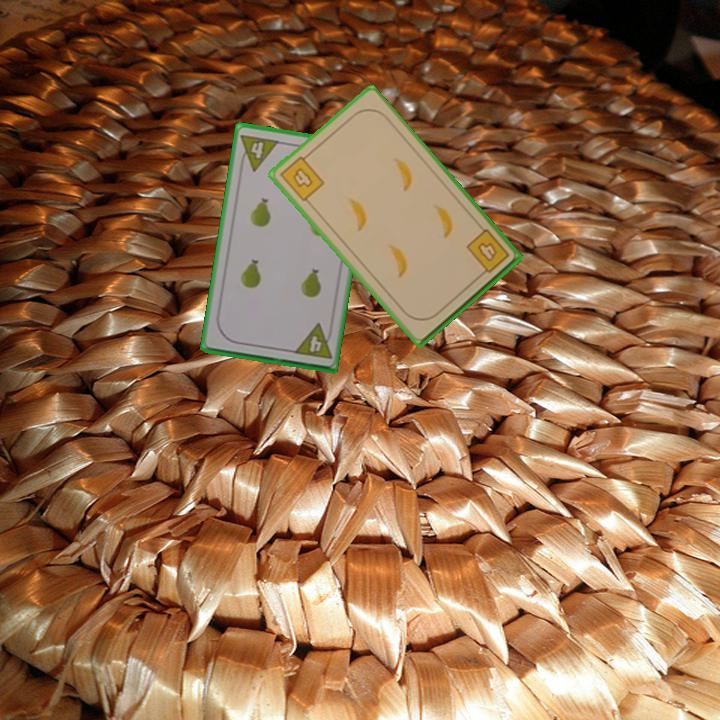4b: (276, 149, 327, 204), (462, 225, 512, 280)
4p: (236, 130, 282, 174), (290, 320, 335, 362)
